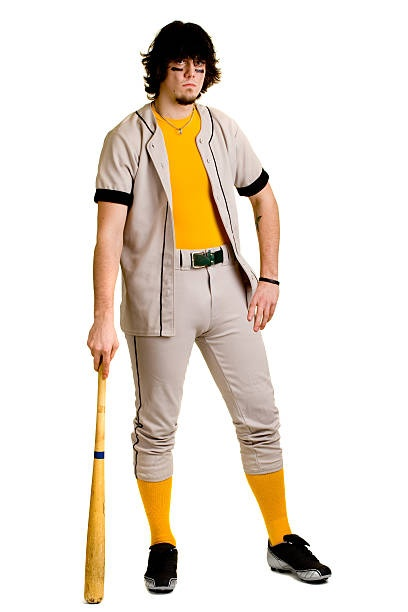bita: (79, 339, 113, 608)
